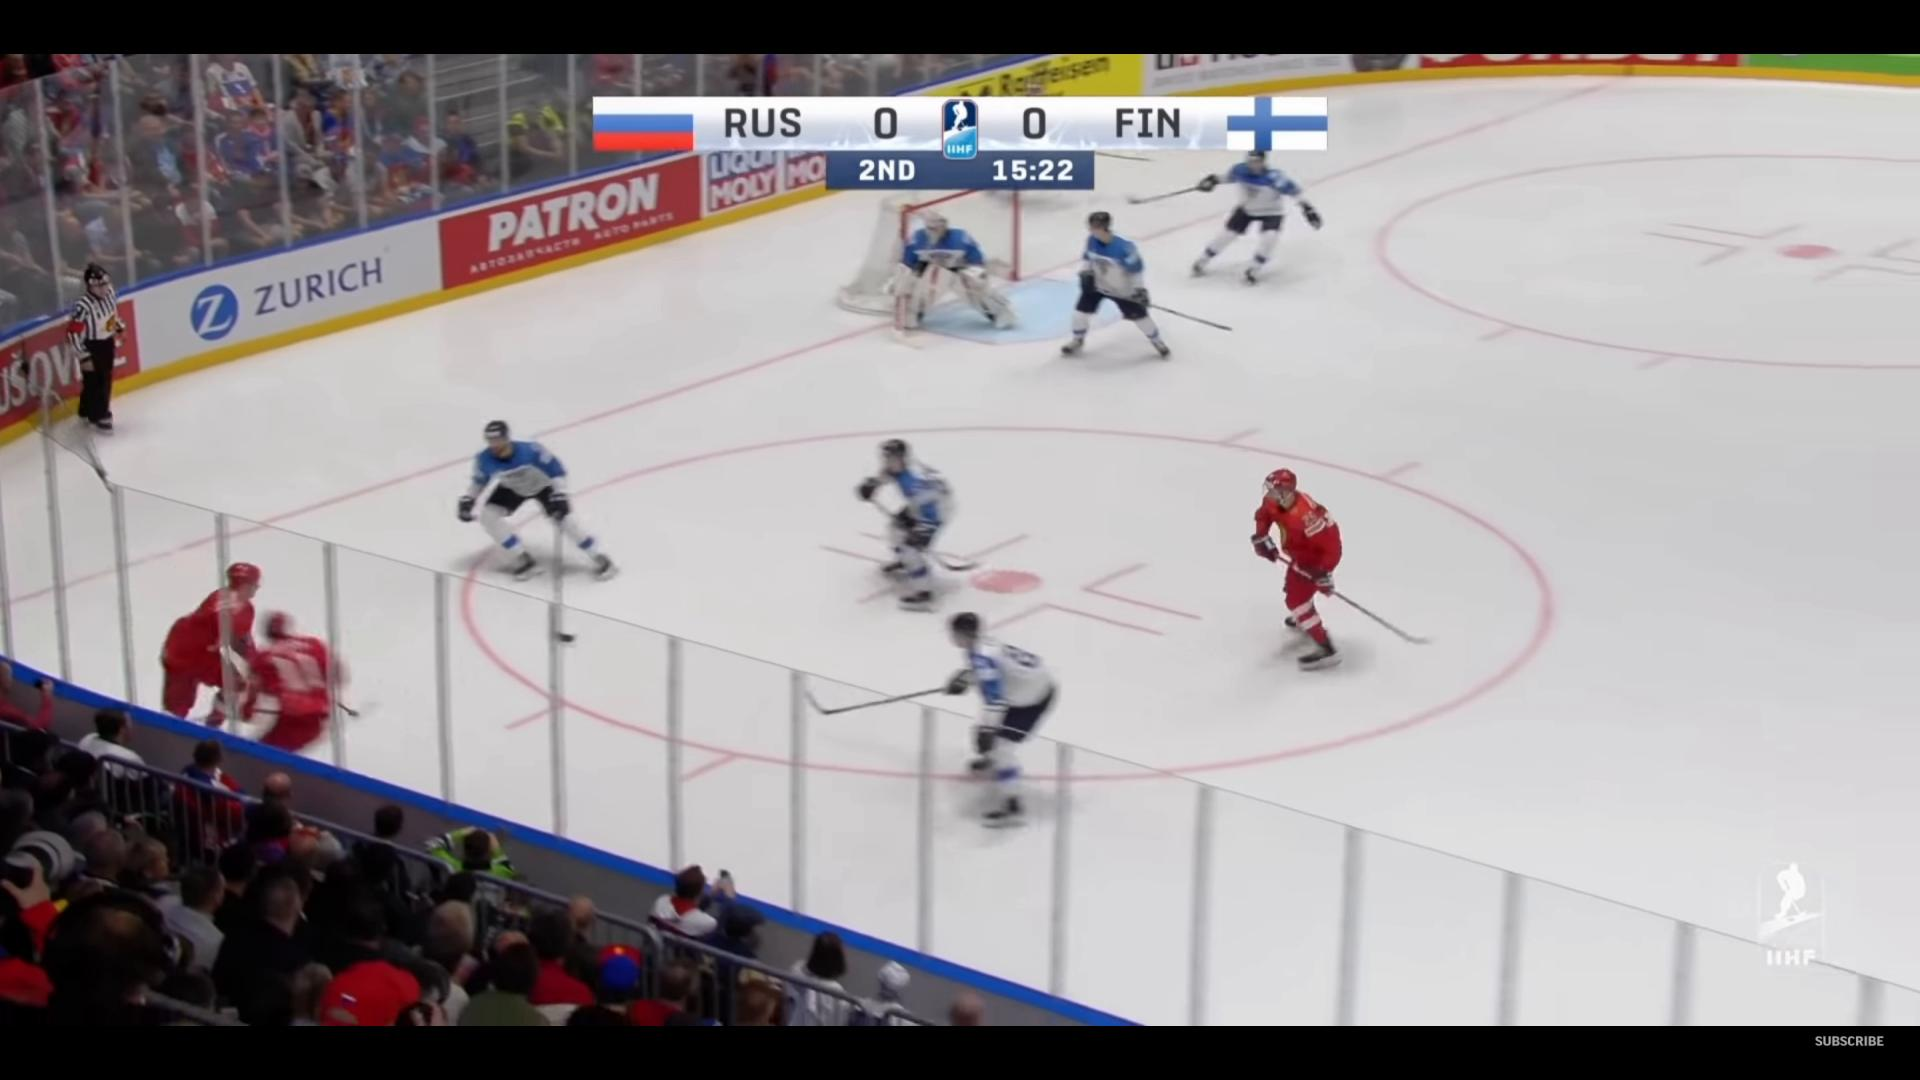puck: (558, 633, 574, 642)
